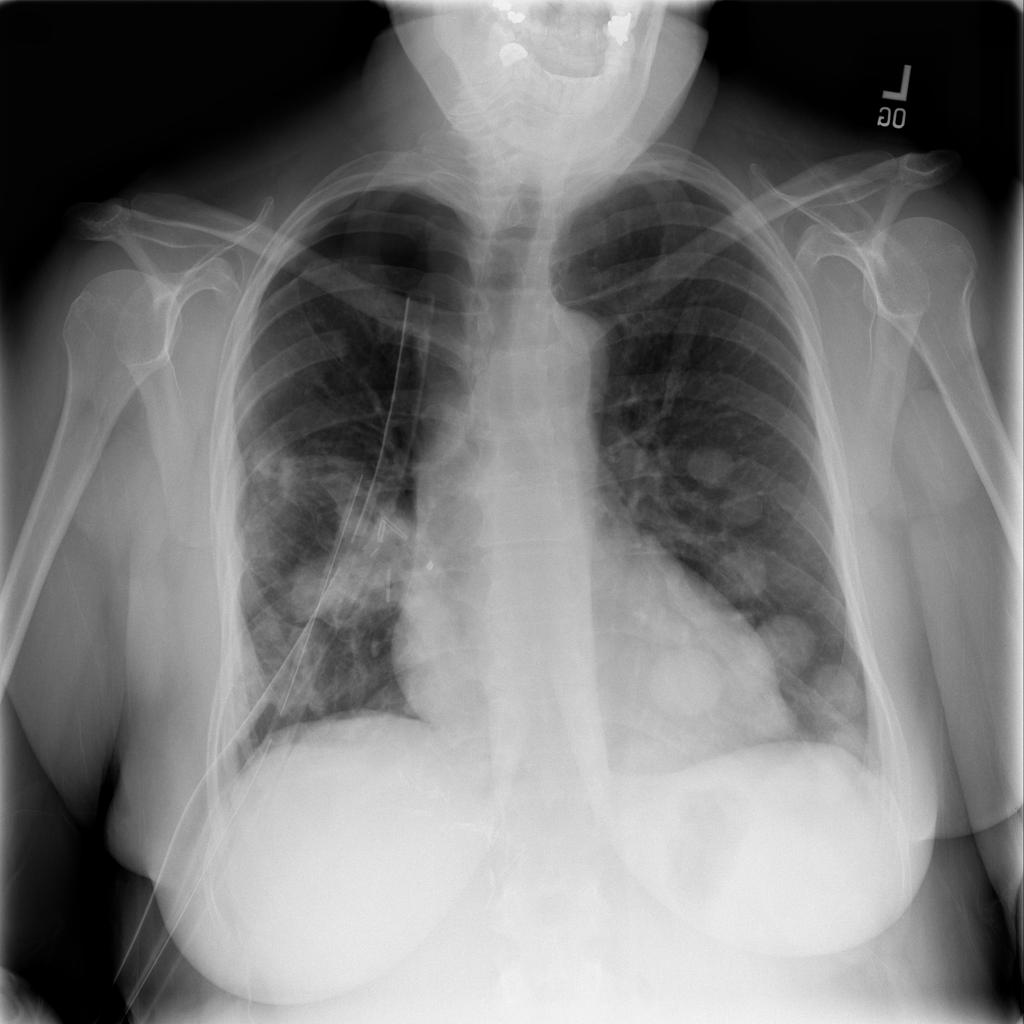nodule: (280, 524, 405, 639), (645, 640, 726, 721), (748, 605, 825, 679), (801, 657, 872, 730), (681, 432, 750, 503), (804, 724, 877, 791), (707, 544, 779, 611), (711, 468, 775, 543), (733, 685, 802, 749)
